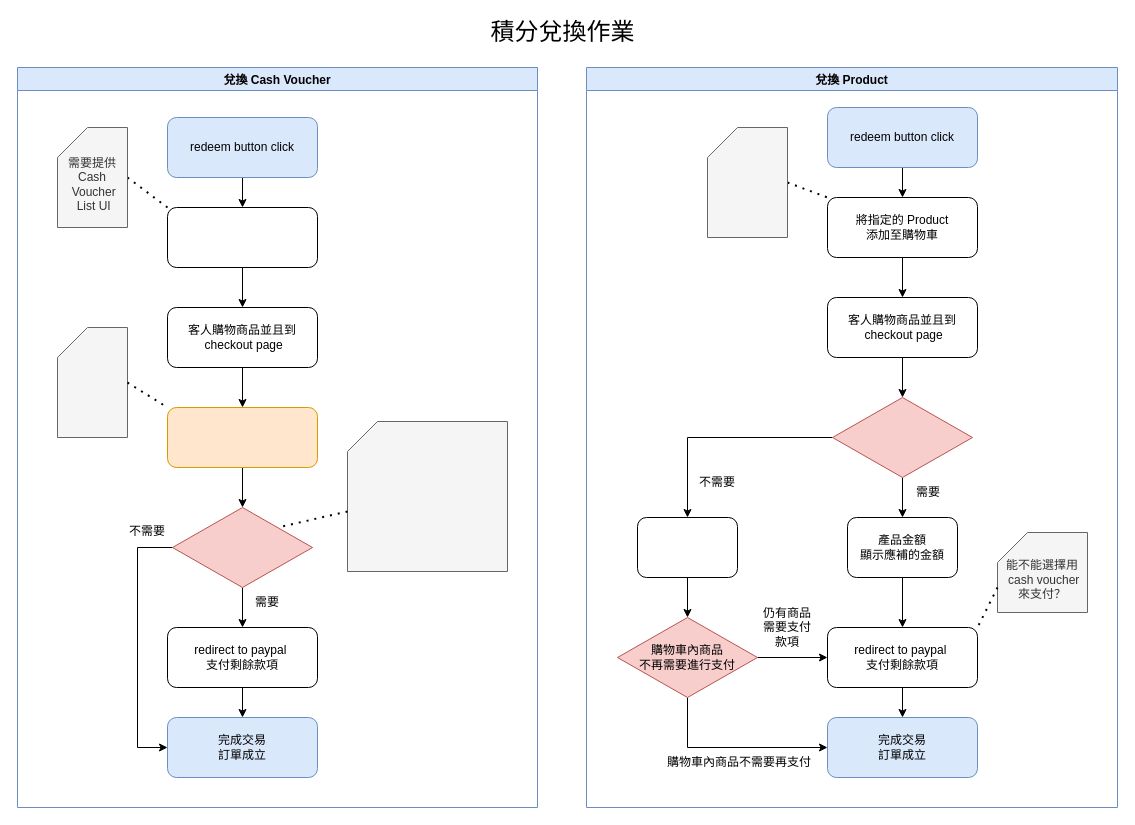
Image size: 1135x825. Some labels were removed from this diagram. Here are the shapes that lost their labels. From the top down, the centre of each, then its label:
At point 747,182: "請確認是 product 還是 product item".
At point 242,237: "cash voucher list 可以見到剛剛兌換的".
At point 92,382: "需要提供 從哪選擇 Cash Voucer 支付".
At point 242,437: "選擇 cash voucher 支付".
At point 902,437: "兌換的商品 是否還需要補現金".
At point 427,496: "如果 cash voucher 超過應付金額, 剩餘的 cash voucher 如何處理？ 不需理會？ 這張 cash voucher 額度減少？".
At point 242,547: "是否還需要補現金".
At point 687,547: "產品金額 顯示 $0".
